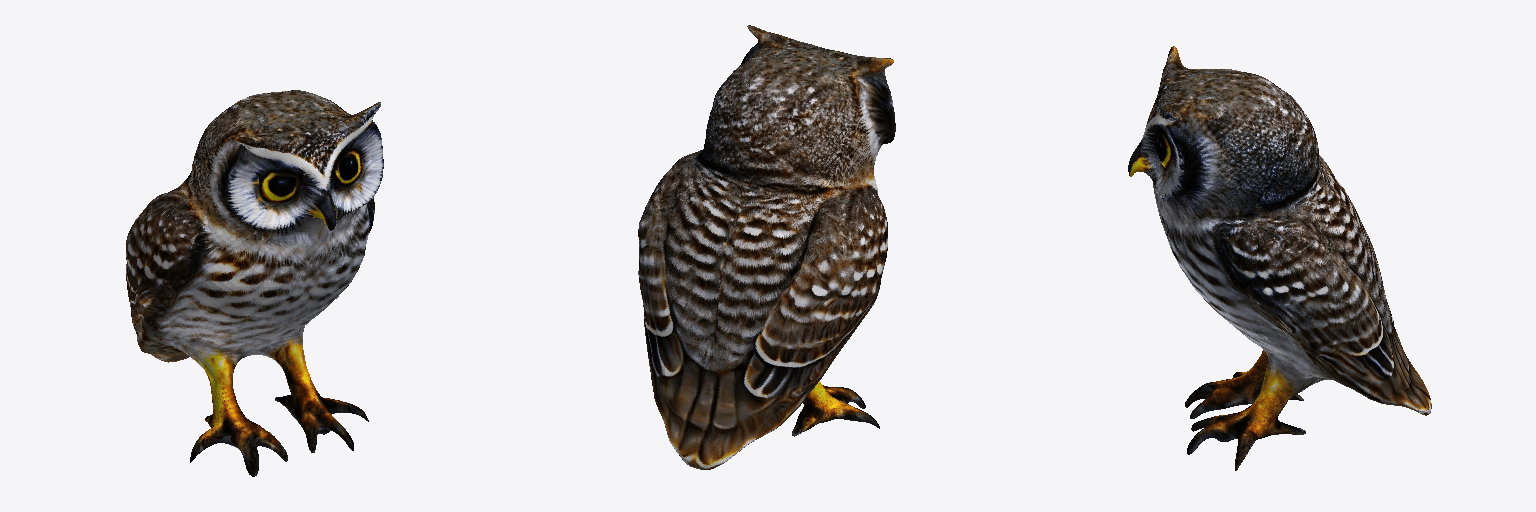
3 views of the same model, side by side, from view 1: azimuth 30°, elevation 25°; view 2: azimuth 150°, elevation 25°; view 3: azimuth 270°, elevation 25° (orthographic).
Parts seen in each view (by area): view 1: Owl_Quad; view 2: Owl_Quad; view 3: Owl_Quad.
Boxes of the visible parts, x1=… form: Owl_Quad: x1=126, y1=90, x2=383, y2=476; Owl_Quad: x1=638, y1=25, x2=895, y2=469; Owl_Quad: x1=1128, y1=46, x2=1431, y2=470.
Bounding box in the file's own units: 0.195 × 0.2908 × 0.2284.
Materials: 1 (1 with a texture image).